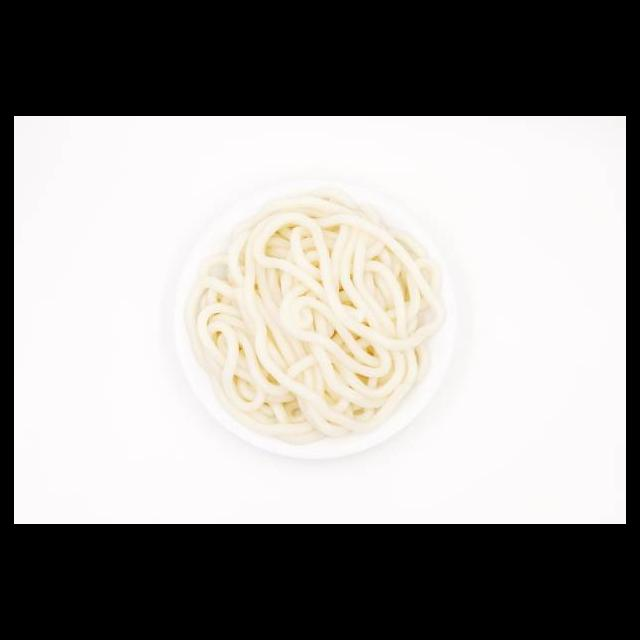noodles: (183, 192, 447, 443)
